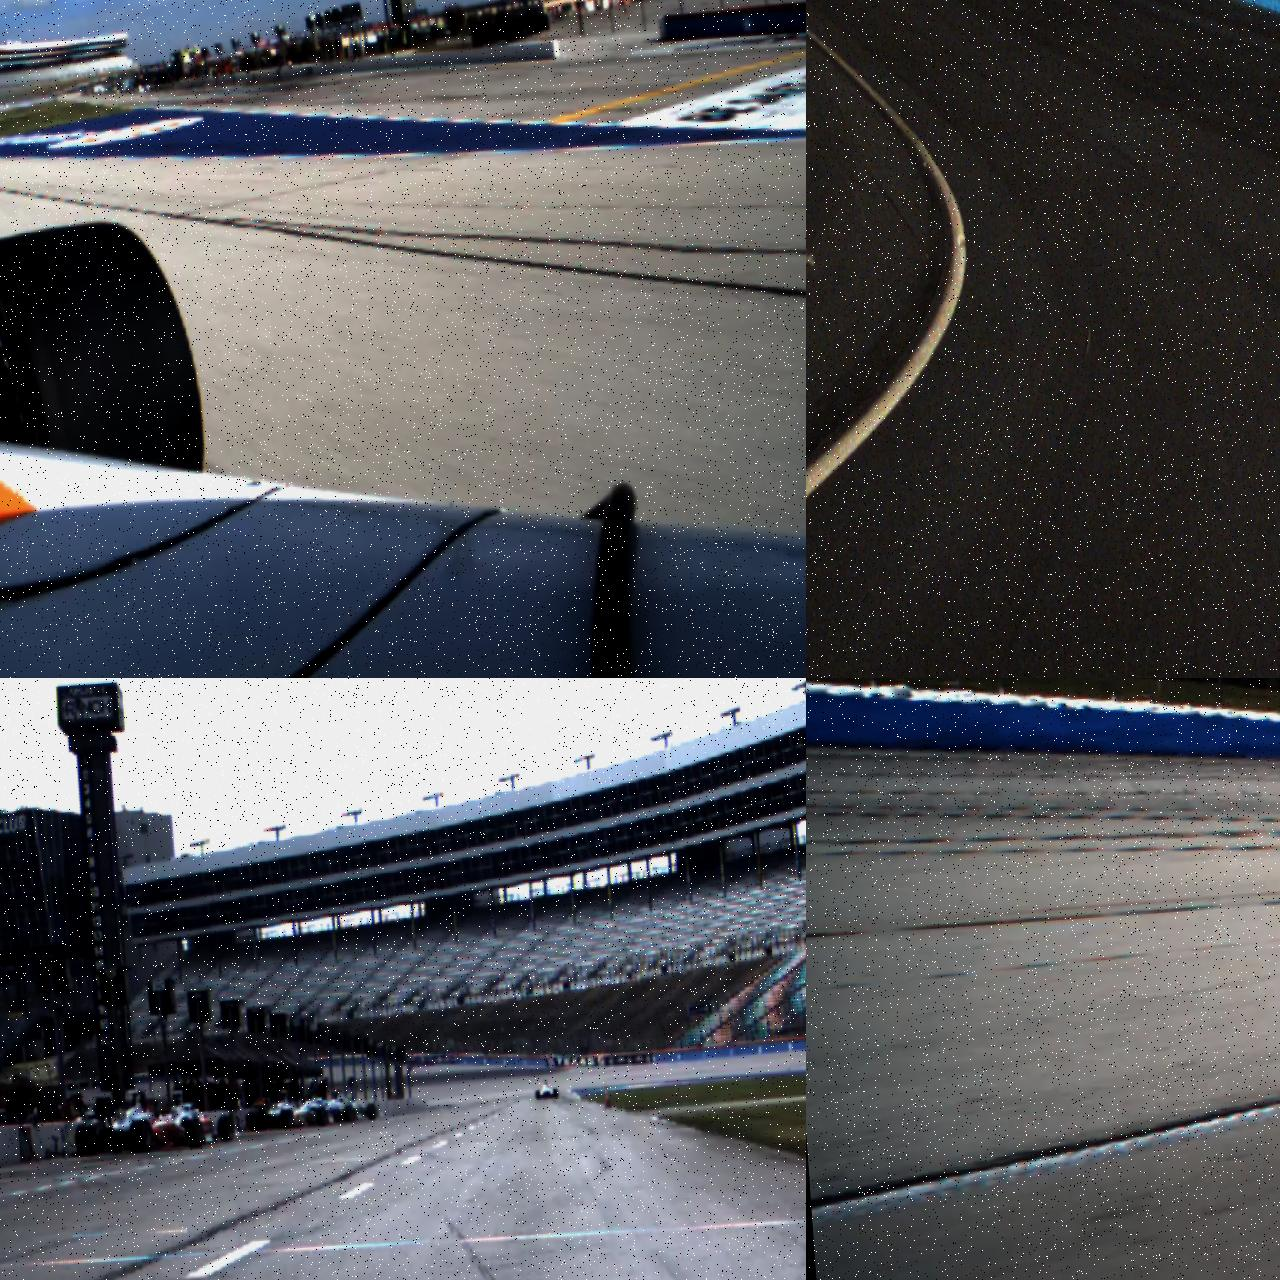AV: (73, 1087, 206, 1157), (245, 1088, 327, 1132), (535, 1080, 558, 1101)
Wheel: (0, 215, 206, 490), (75, 1121, 102, 1156), (130, 1119, 154, 1153), (184, 1118, 205, 1149), (217, 1114, 234, 1143), (280, 1108, 294, 1128), (246, 1110, 259, 1130), (365, 1103, 377, 1121), (316, 1107, 327, 1126), (345, 1105, 355, 1123), (536, 1090, 540, 1099), (553, 1089, 558, 1097)
